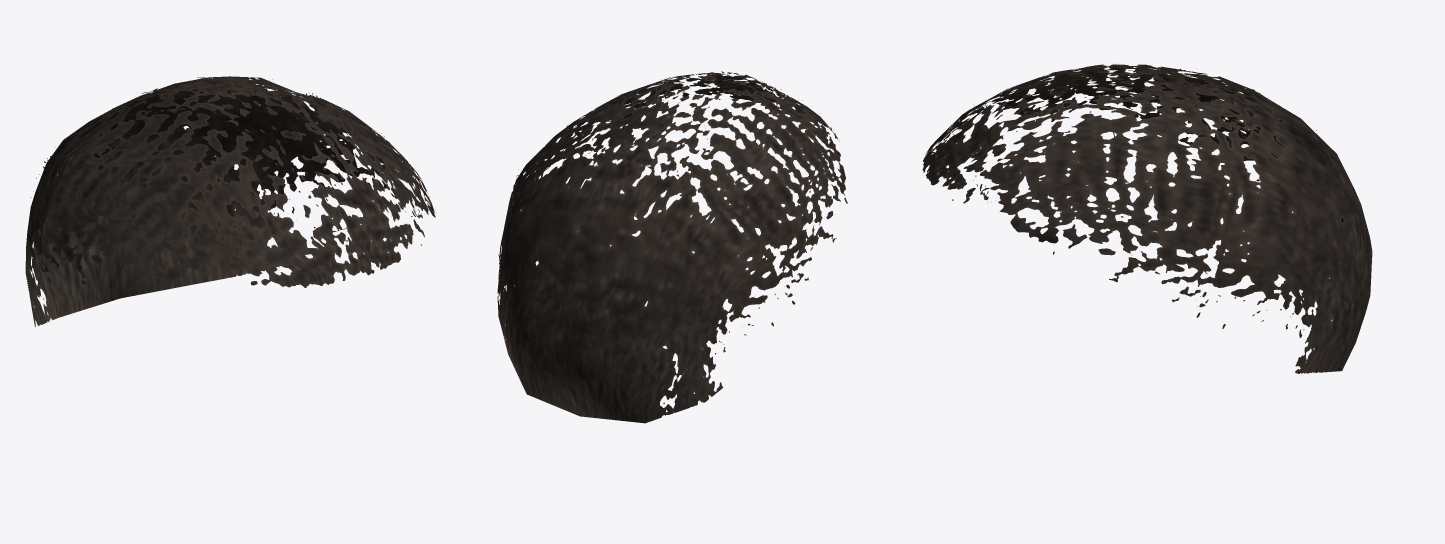
File: fra-mbappe.glb
3 renders of one model, left to right at view 1: azimuth 30°, elevation 25°; view 2: azimuth 150°, elevation 25°; view 3: azimuth 270°, elevation 25°, orthographic. The views are drawn at different scales.
Visible parts, largest first — view 1: hair; view 2: hair; view 3: hair.
Boxes of the visible parts, x1,y1,x2,y2 form: hair: [25, 76, 435, 327]; hair: [497, 71, 847, 423]; hair: [922, 64, 1372, 373].
Size of the model in its own units: 0.153 by 0.2054 by 0.2121.
1 material, 1 textured.
